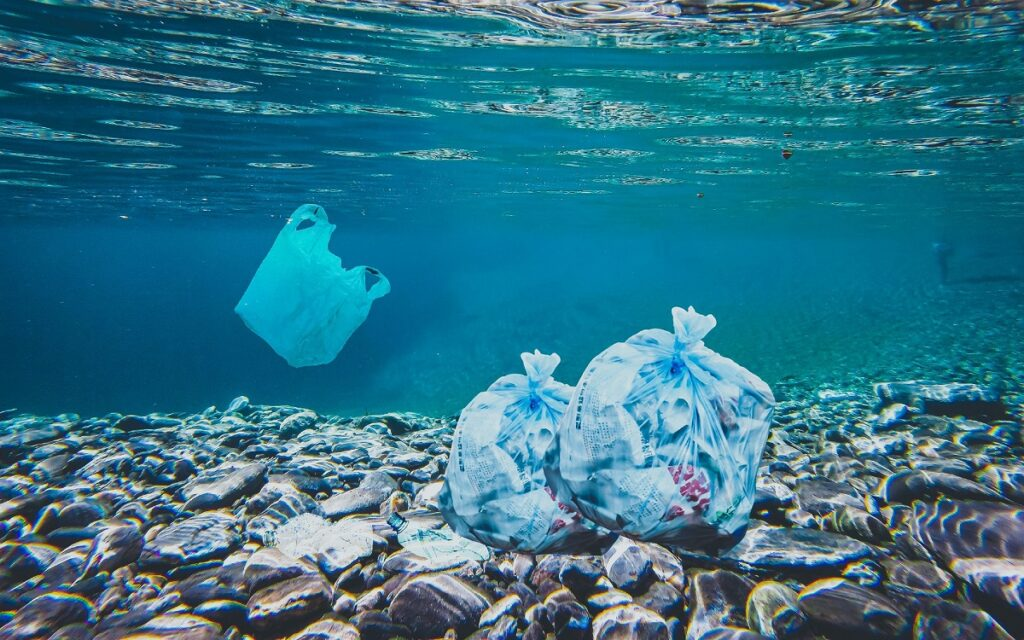Plastic: (561, 302, 790, 525), (455, 349, 606, 551), (232, 184, 394, 371)
